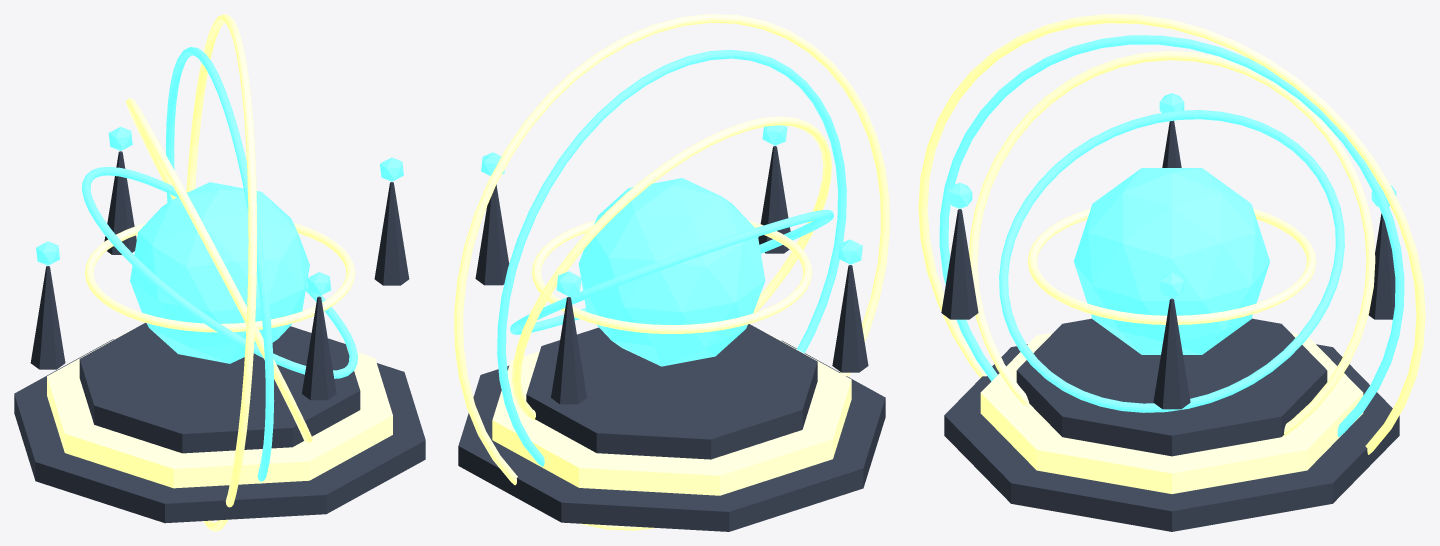
The model's file is gpu-blender-v21.glb.
The picture shows the model from 3 angles, left to right: view 1: azimuth 30°, elevation 25°; view 2: azimuth 150°, elevation 25°; view 3: azimuth 270°, elevation 25°; orthographic projection. The views are drawn at different scales.
Parts seen in each view (by area): view 1: Cylinder.002, SovereignCore_pod-smart-router, Cylinder, Cylinder.001, Torus.004, Torus.003, Torus.001, Torus, Torus.002, Cone.003, Cone, Cone.002 (+1 smaller); view 2: Cylinder.002, SovereignCore_pod-smart-router, Cylinder, Cylinder.001, Torus.004, Torus.003, Torus.002, Torus, Torus.001, Cone.001, Cone.002, Cone (+1 smaller); view 3: SovereignCore_pod-smart-router, Cylinder.002, Cylinder, Cylinder.001, Torus.004, Torus.001, Torus.003, Torus.002, Torus, Cone, Cone.003, Cone.001 (+1 smaller).
Part boxes in pixels (x1=…): Cylinder.002: x1=79, y1=323, x2=360, y2=453; SovereignCore_pod-smart-router: x1=130, y1=182, x2=309, y2=363; Cylinder: x1=14, y1=339, x2=425, y2=523; Cylinder.001: x1=47, y1=330, x2=392, y2=488; Torus.004: x1=186, y1=14, x2=257, y2=531; Torus.003: x1=165, y1=47, x2=274, y2=483; Torus.001: x1=82, y1=166, x2=357, y2=378; Torus: x1=85, y1=223, x2=354, y2=332; Torus.002: x1=126, y1=98, x2=312, y2=442; Cone.003: x1=302, y1=296, x2=336, y2=400; Cone: x1=374, y1=182, x2=409, y2=285; Cone.002: x1=30, y1=266, x2=65, y2=369; Cylinder.002: x1=526, y1=324, x2=817, y2=459; SovereignCore_pod-smart-router: x1=578, y1=178, x2=765, y2=366; Cylinder: x1=458, y1=340, x2=885, y2=531; Cylinder.001: x1=492, y1=331, x2=851, y2=495; Torus.004: x1=454, y1=14, x2=889, y2=530; Torus.003: x1=497, y1=49, x2=846, y2=466; Torus.002: x1=512, y1=116, x2=831, y2=419; Torus: x1=531, y1=220, x2=812, y2=333; Torus.001: x1=510, y1=209, x2=833, y2=334; Cone.001: x1=551, y1=297, x2=586, y2=404; Cone.002: x1=832, y1=265, x2=868, y2=372; Cone: x1=475, y1=184, x2=509, y2=285; SovereignCore_pod-smart-router: x1=1073, y1=168, x2=1270, y2=354; Cylinder.002: x1=1016, y1=318, x2=1327, y2=456; Cylinder: x1=944, y1=344, x2=1399, y2=531; Cylinder.001: x1=980, y1=332, x2=1363, y2=493; Torus.004: x1=918, y1=14, x2=1425, y2=454; Torus.001: x1=999, y1=110, x2=1344, y2=412; Torus.003: x1=939, y1=35, x2=1404, y2=437; Torus.002: x1=969, y1=51, x2=1375, y2=435; Torus: x1=1027, y1=209, x2=1316, y2=324; Cone: x1=1153, y1=298, x2=1190, y2=409; Cone.003: x1=941, y1=209, x2=978, y2=319; Cone.001: x1=1368, y1=213, x2=1395, y2=319.
Bounding box in the file's own units: 4.41 × 5.33 × 4.9.
